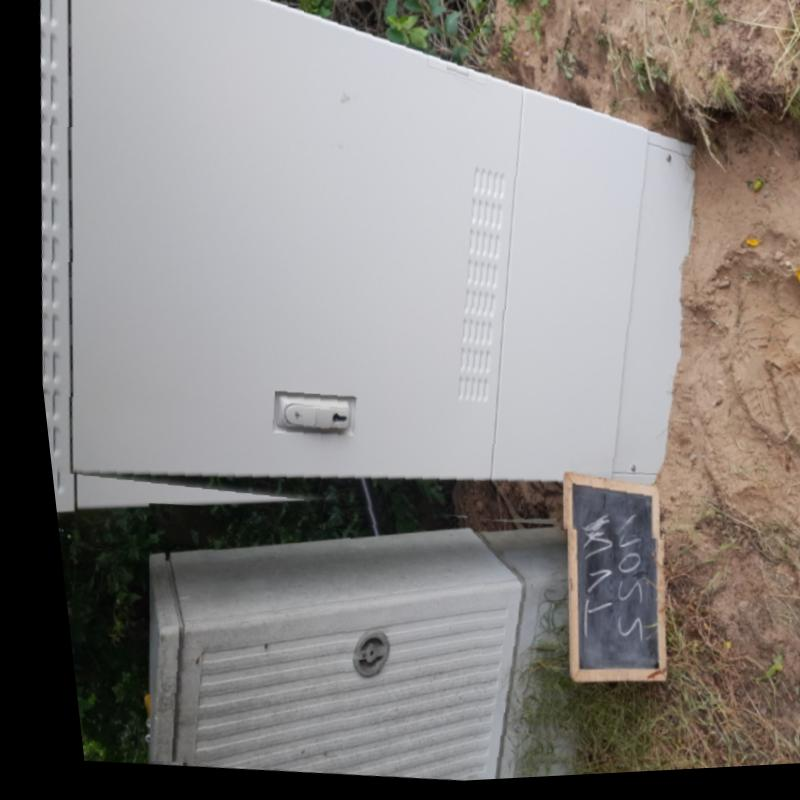NT-Gehause: (33, 0, 682, 494), (132, 530, 542, 784)
